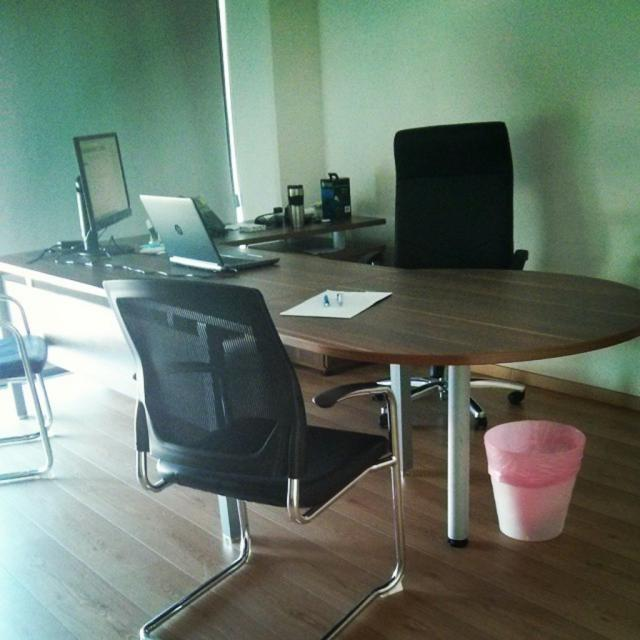chair: (105, 279, 408, 639), (0, 275, 54, 482)
desk: (0, 219, 639, 540)
laptop: (138, 195, 281, 272)
tv: (73, 132, 134, 245)
